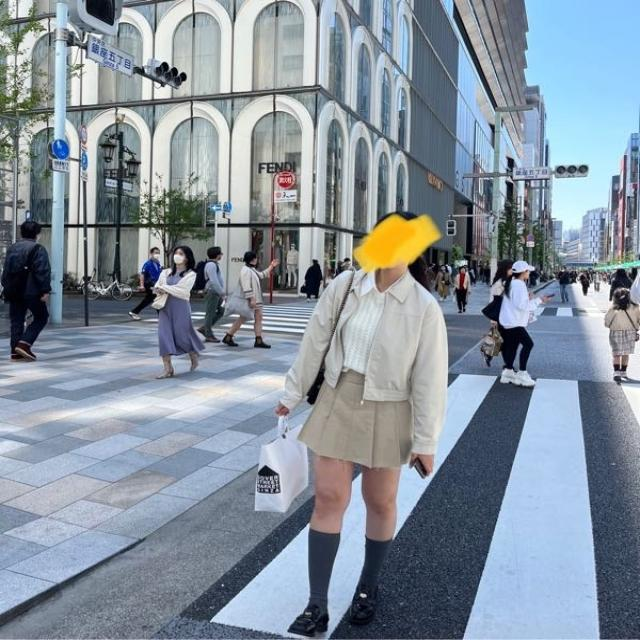jacket: (282, 258, 448, 452)
skirt: (301, 366, 413, 470)
